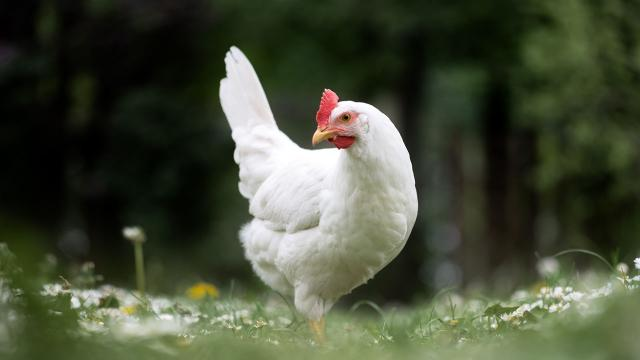Chicken: (217, 44, 418, 344)
